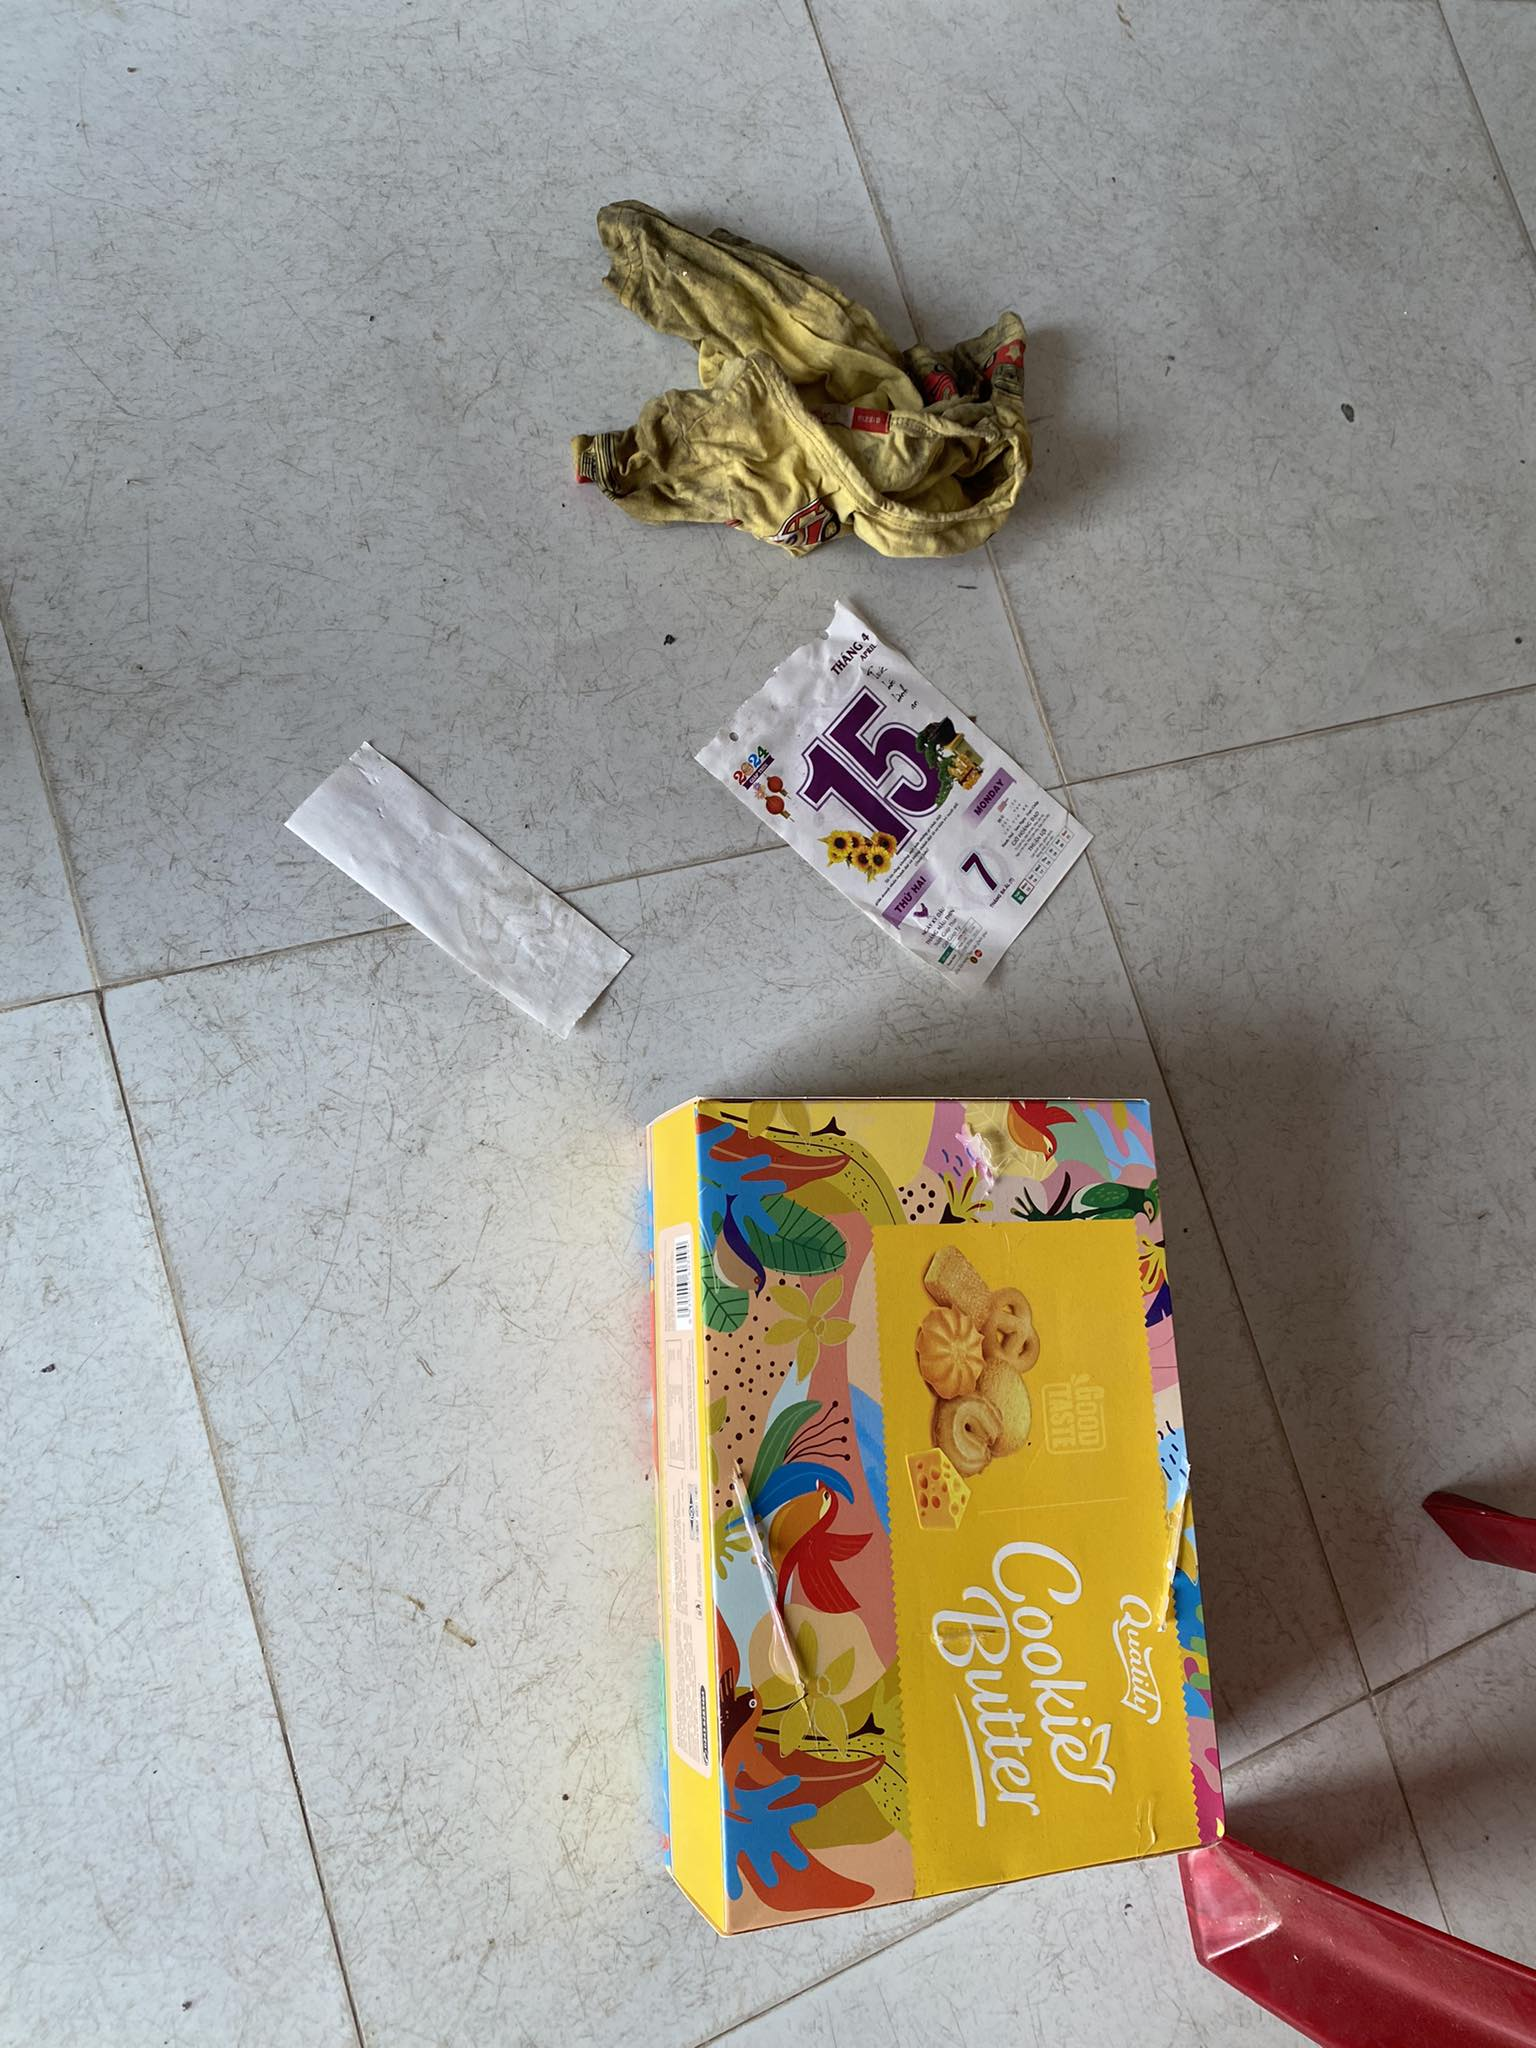cardboard: (613, 1047, 1218, 1938)
clothes: (537, 209, 1096, 563)
paper: (662, 586, 1169, 1001), (259, 731, 624, 1054)
